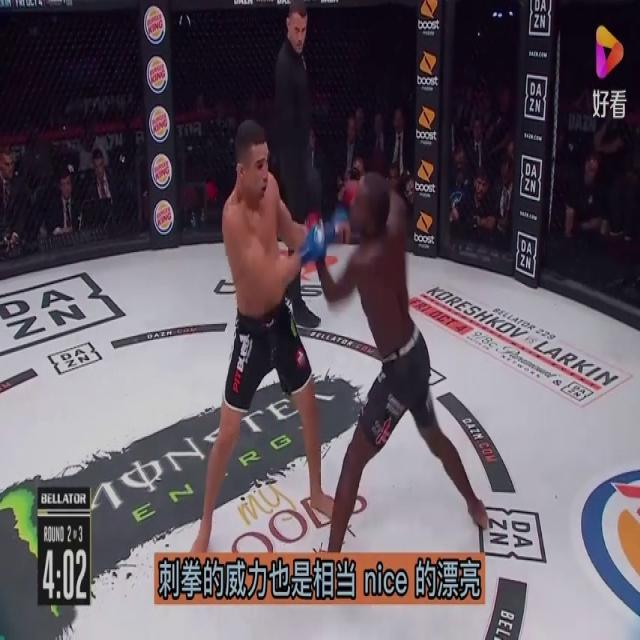fight: (186, 113, 491, 638)
